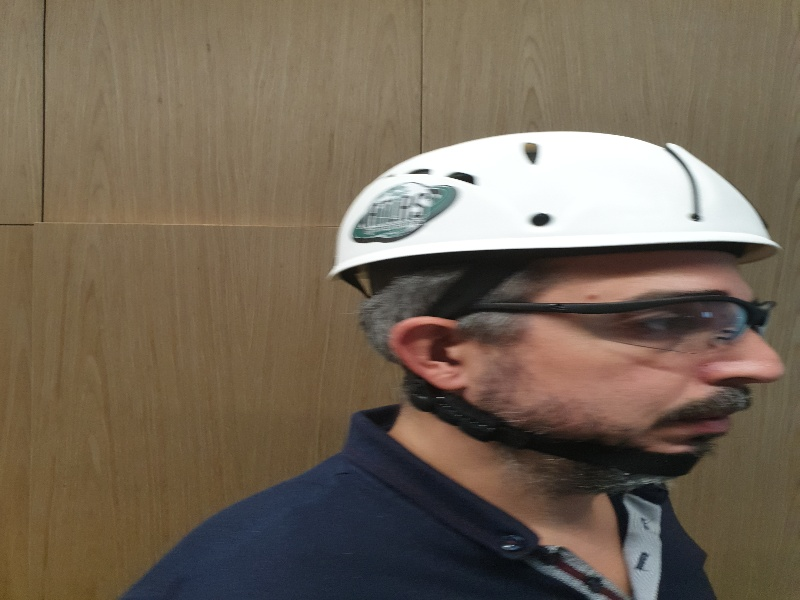Baret: (326, 131, 777, 276)
Gozluk: (450, 296, 779, 358)
